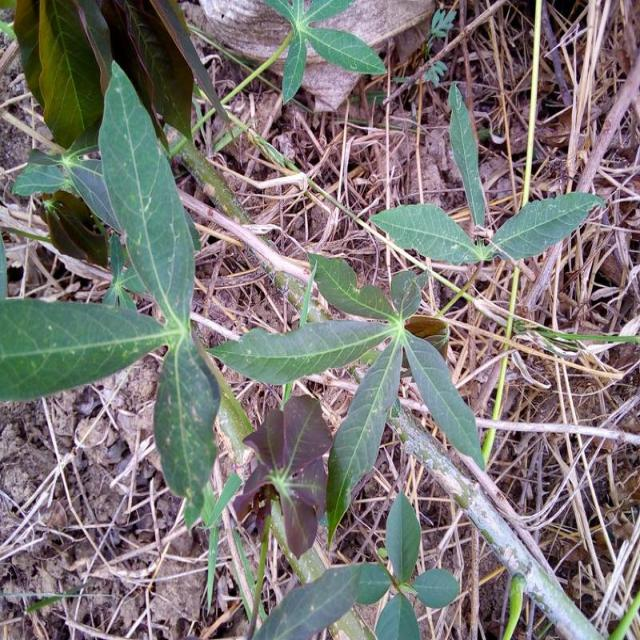cassava leaf: (96, 59, 197, 330), (0, 296, 169, 402), (487, 190, 605, 262), (368, 202, 482, 266), (447, 81, 487, 232)
